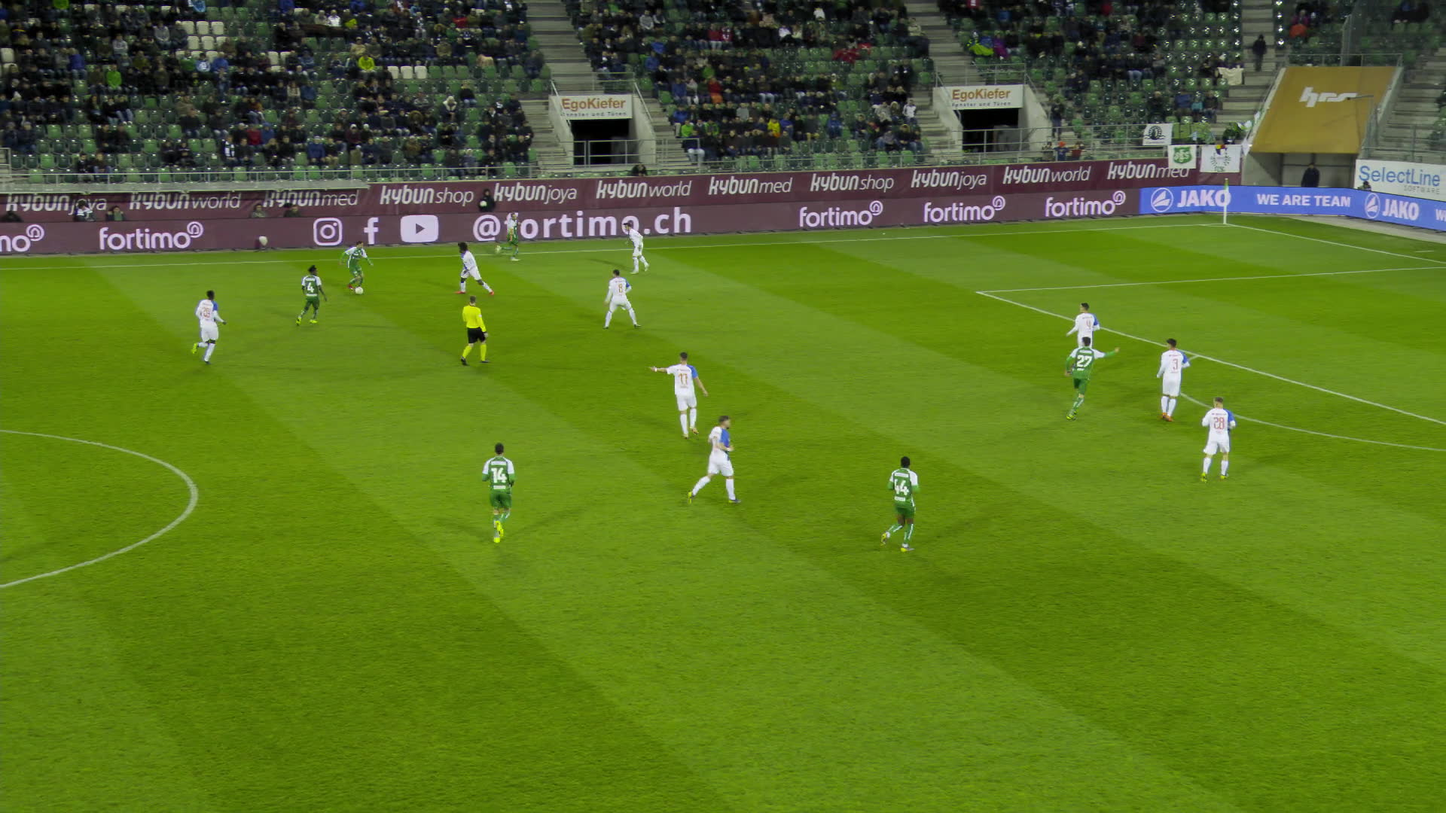ball: (355, 286, 363, 294)
player: (646, 352, 709, 438), (1062, 334, 1118, 420), (884, 452, 921, 555), (485, 439, 520, 544), (1151, 339, 1191, 421), (697, 416, 731, 509), (1069, 300, 1111, 375), (593, 265, 638, 329), (1203, 400, 1237, 483), (190, 288, 225, 364), (455, 240, 488, 294), (490, 211, 526, 260), (302, 263, 327, 326), (343, 238, 368, 291), (624, 224, 651, 273)
referee: (462, 294, 493, 365)
